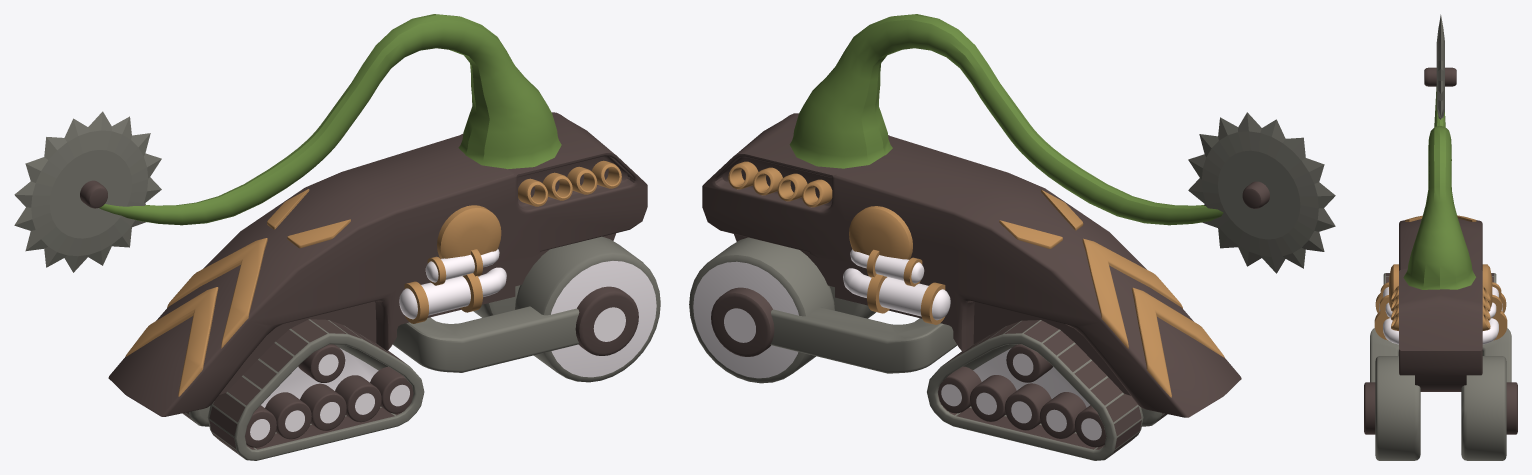
File: saw-boss.glb
3 renders of one model, left to right at view 1: azimuth 30°, elevation 25°; view 2: azimuth 150°, elevation 25°; view 3: azimuth 270°, elevation 25°, orthographic. The views are drawn at different scales.
Visible parts, largest first — view 1: Saw-Boss; view 2: Saw-Boss; view 3: Saw-Boss.
Boxes of the visible parts, bbox=[...] form: Saw-Boss: bbox=[14, 14, 660, 460]; Saw-Boss: bbox=[689, 14, 1335, 460]; Saw-Boss: bbox=[1364, 14, 1517, 460].
Size of the model in its own units: 4.64 by 2.68 by 1.36.
